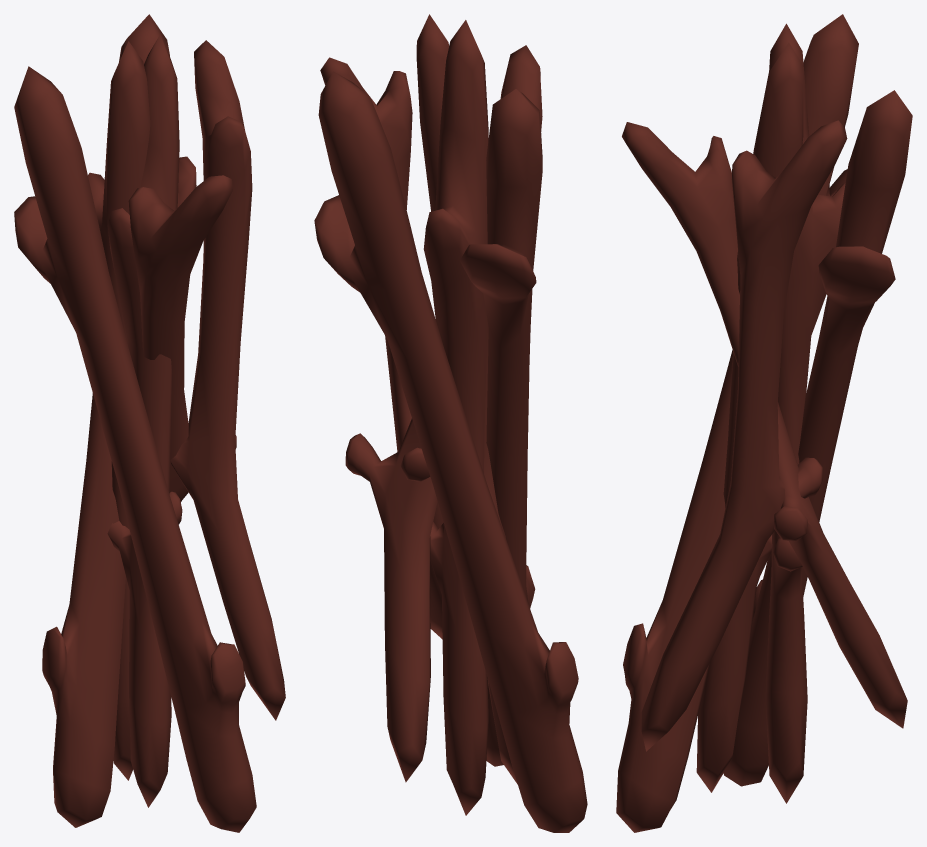
The model's file is twig-1.fbx.
The picture shows the model from 3 angles, left to right: view 1: azimuth 30°, elevation 25°; view 2: azimuth 150°, elevation 25°; view 3: azimuth 270°, elevation 25°; orthographic projection. The views are drawn at different scales.
Parts seen in each view (by area): view 1: twig-1; view 2: twig-1; view 3: twig-1.
Part boxes in pixels (<box>): twig-1: <box>14,14,285,832</box>; twig-1: <box>314,14,587,832</box>; twig-1: <box>616,14,912,832</box>.
Bounding box in the file's own units: 84.2 × 295 × 99.61.
